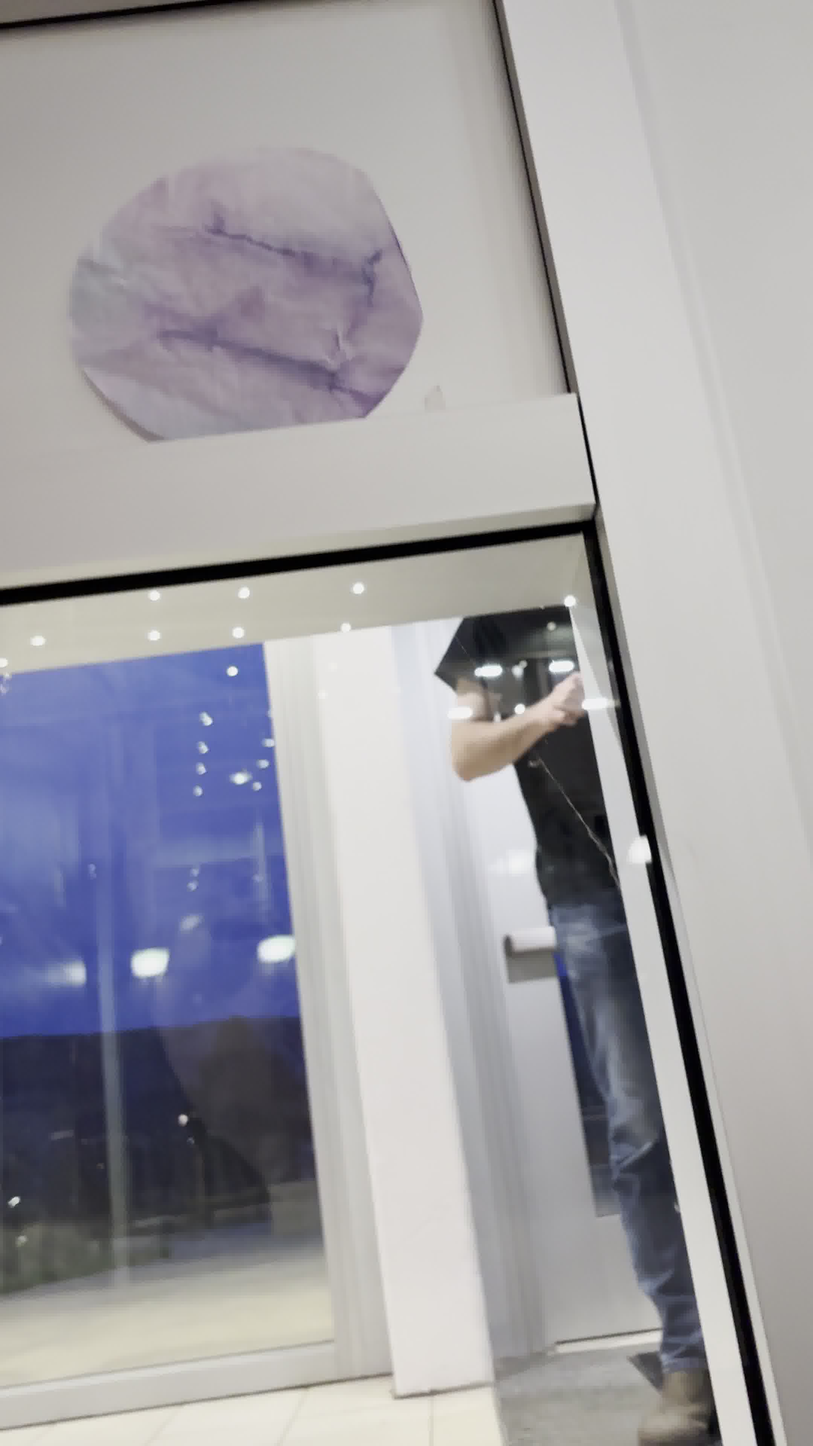Target: (65, 127, 423, 455)
